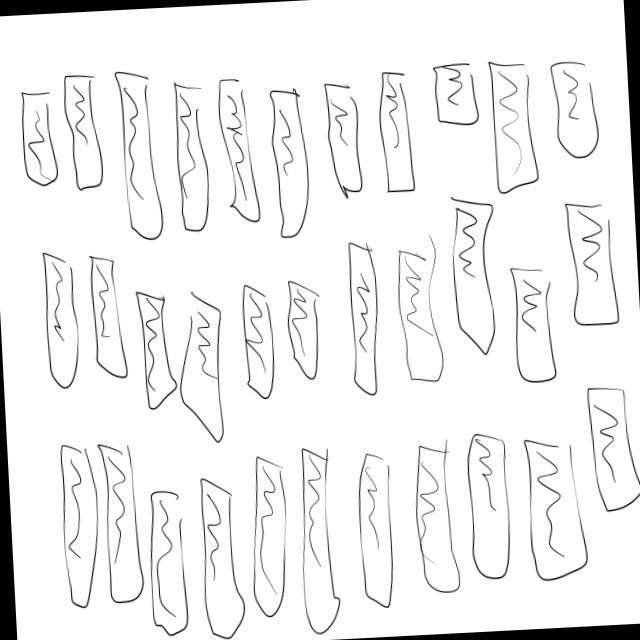Text: (524, 424, 595, 601), (110, 51, 163, 264), (446, 190, 502, 383), (166, 45, 220, 237), (293, 447, 347, 636), (389, 228, 450, 393), (457, 426, 516, 592), (346, 442, 402, 610), (95, 434, 146, 617), (241, 450, 294, 626), (53, 429, 103, 615), (262, 70, 313, 250), (558, 186, 622, 328), (194, 474, 248, 640), (339, 233, 393, 397), (34, 234, 88, 396), (482, 54, 541, 201), (504, 256, 564, 400), (217, 65, 264, 248), (174, 283, 226, 445), (544, 46, 612, 168), (580, 380, 638, 521), (412, 437, 461, 600), (142, 481, 190, 640), (372, 67, 426, 203), (316, 71, 368, 208), (277, 270, 333, 388), (233, 270, 279, 412), (62, 60, 106, 200), (89, 252, 130, 398), (18, 77, 59, 211), (136, 288, 178, 418), (426, 55, 478, 134)
